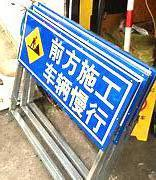sign: (10, 9, 144, 154)
